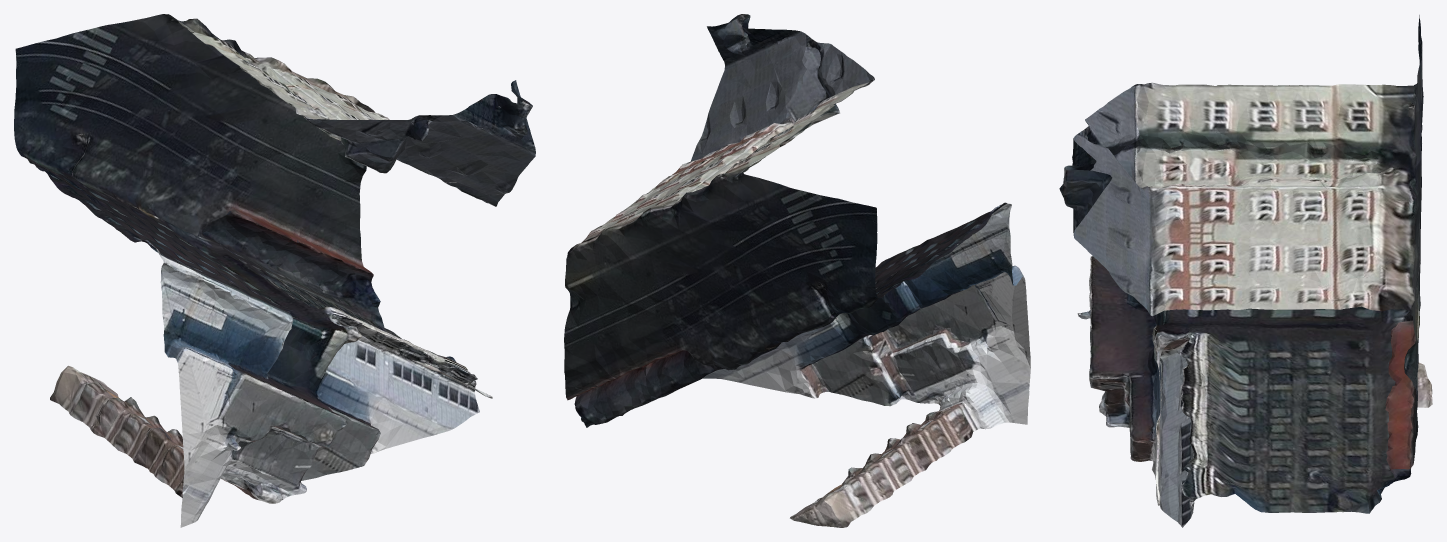
The model's file is Tile_+038_+019_L21_00032200.obj.
The picture shows the model from 3 angles, left to right: view 1: azimuth 30°, elevation 25°; view 2: azimuth 150°, elevation 25°; view 3: azimuth 270°, elevation 25°; orthographic projection. The views are drawn at different scales.
Bounding box in the file's own units: 31.38 × 31.31 × 30.23.
Materials: 1 (1 with a texture image).
